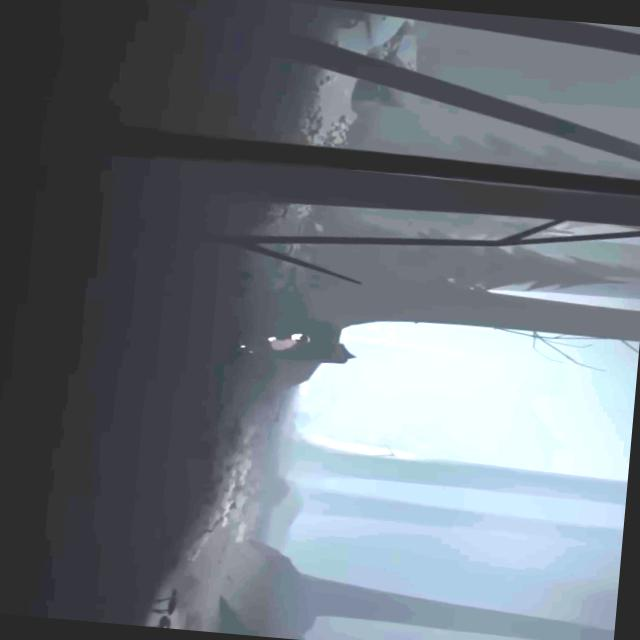boy: (235, 328, 309, 359)
